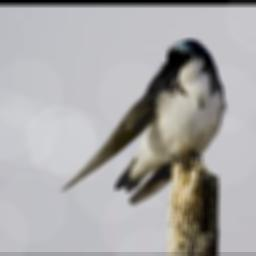Swallow: (61, 36, 229, 206)
